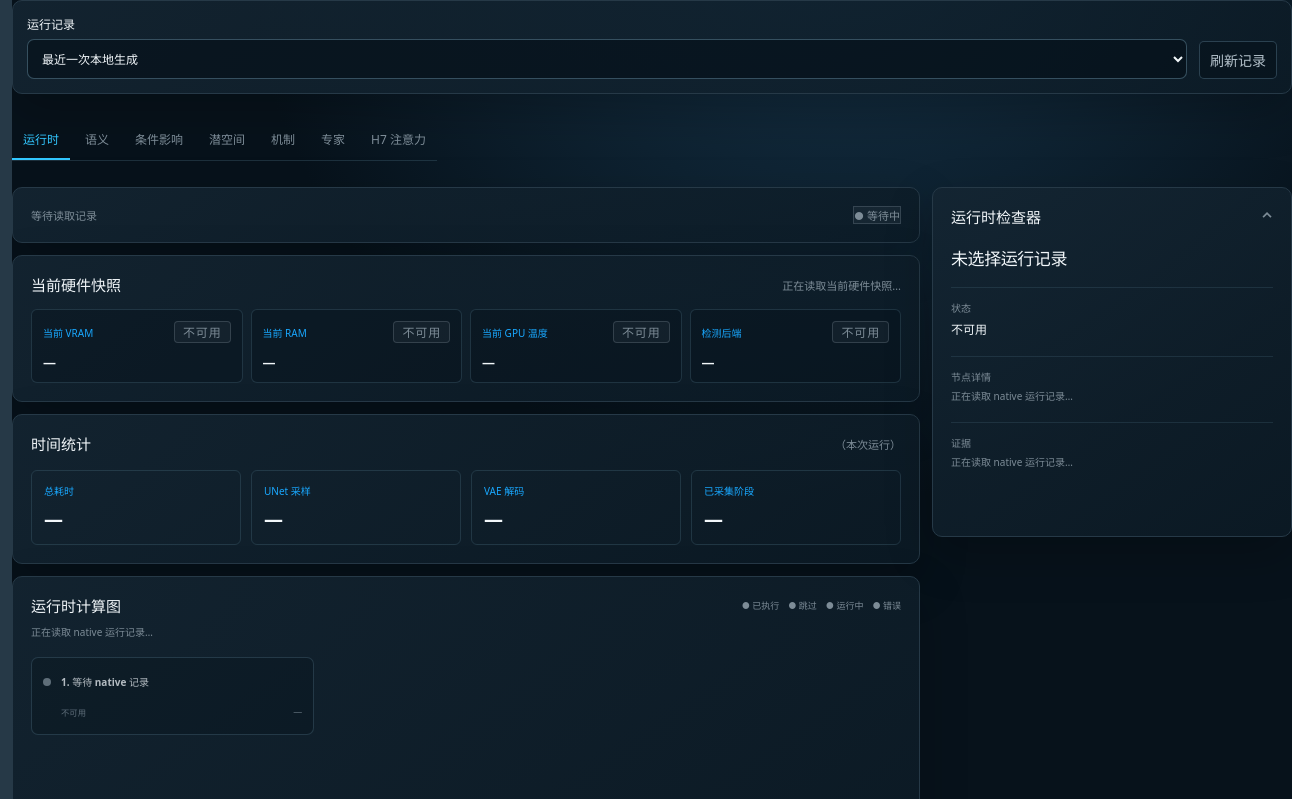
Microscope route-specific capture guidance › offers FaceID enable advice only when H7 注意力 was not enabled
Click the tab "H7 注意力" at x=399, y=140, box left=360, top=120, right=437, bottom=160
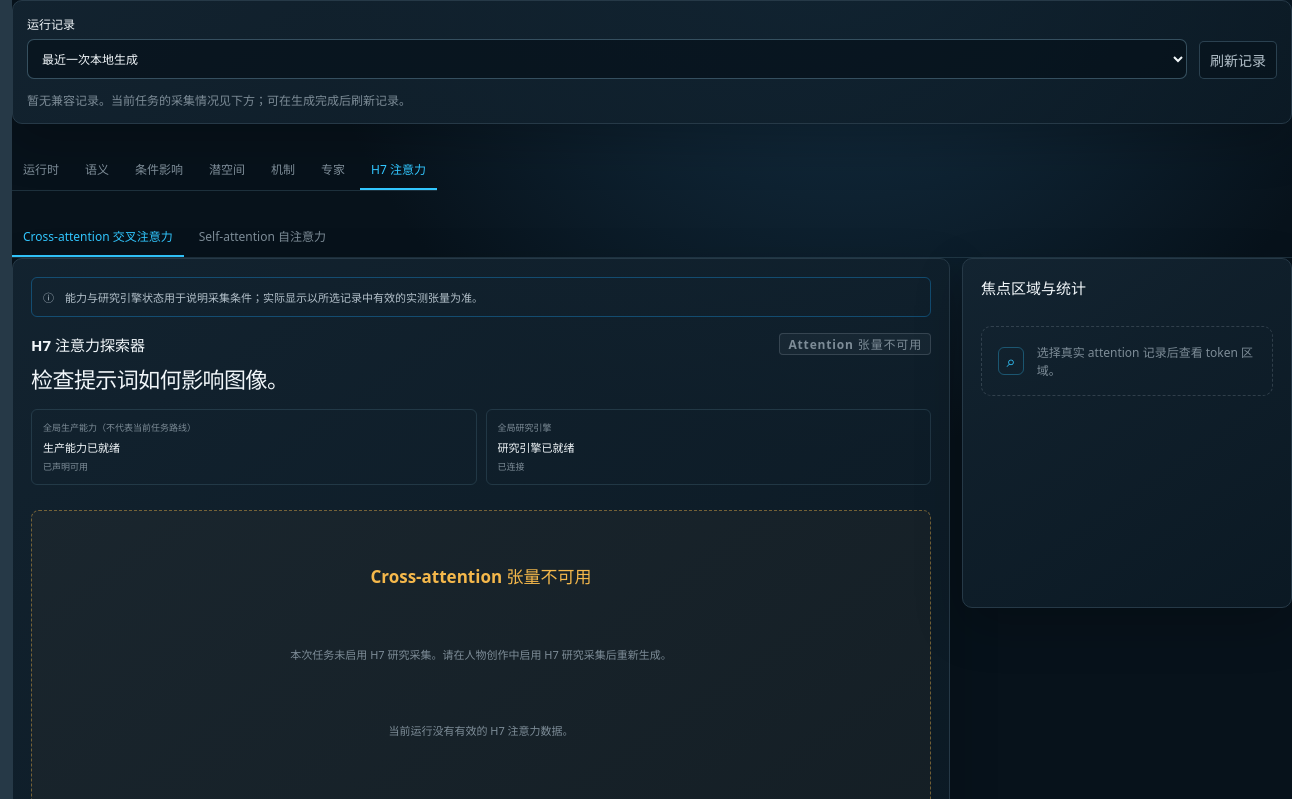
Expected: the text "本次任务未启用 H7 研究采集。请在人物创作中启用 H7 研究采集后重新生成。" is shown, left=290, top=646, right=672, bottom=664
